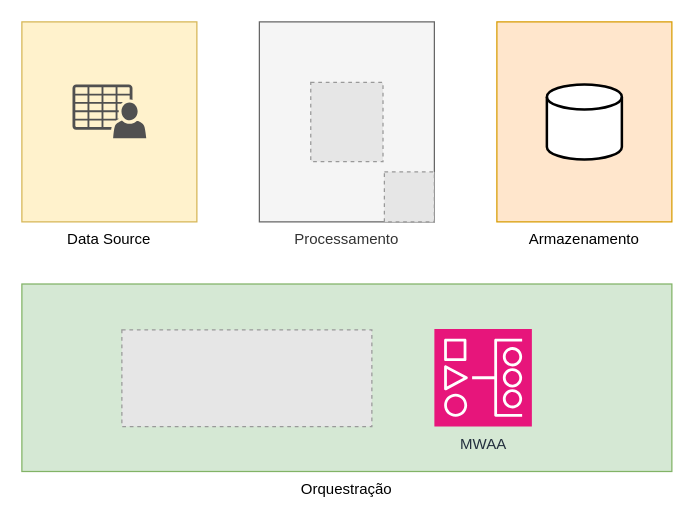
The diagram is 694 pixels wide and 520 high, and some of its shapes have lost their labels. Grey dashed boxes stand in for pictures. The box of each missing label's shape, as (x1, y1, x2, y2) in pixels:
CSV Data: (72, 84, 146, 138)
Postgres DB: (545, 82, 622, 160)
